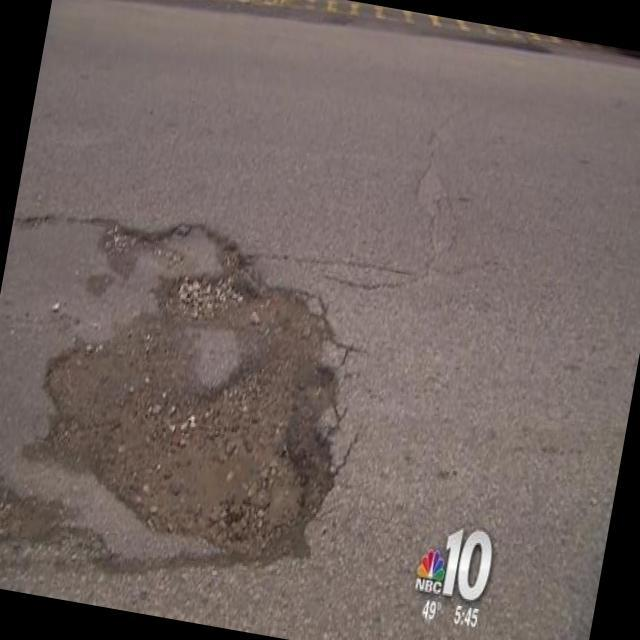Pothole: (94, 327, 346, 578), (162, 244, 264, 332)
